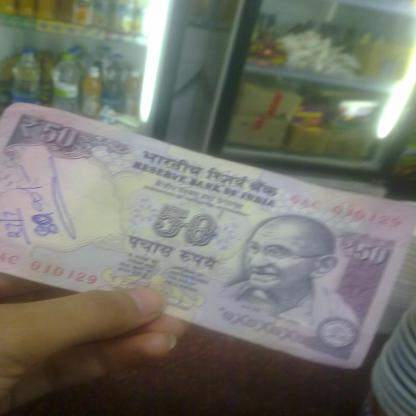Old50Front: (0, 102, 416, 369)
